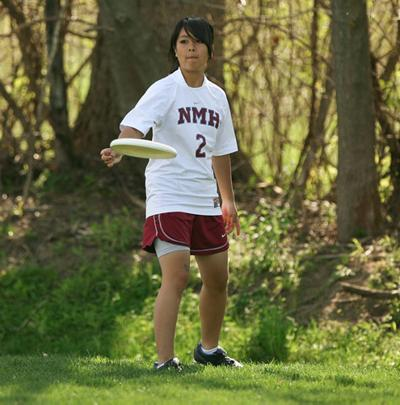person: (99, 14, 246, 372)
